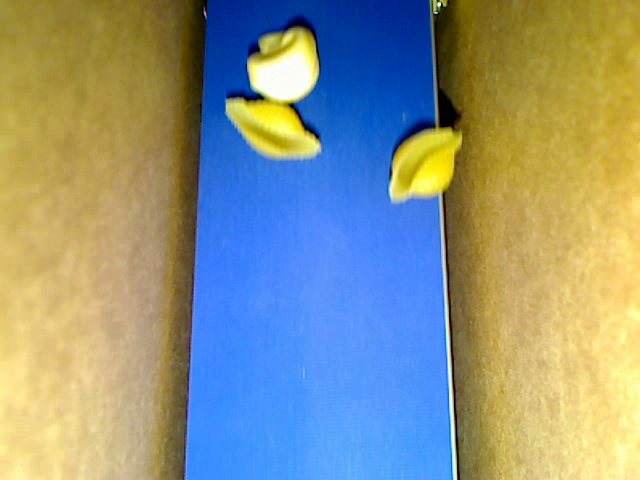shell: (223, 98, 321, 161), (387, 128, 463, 205)
tortellini: (247, 27, 320, 103)
